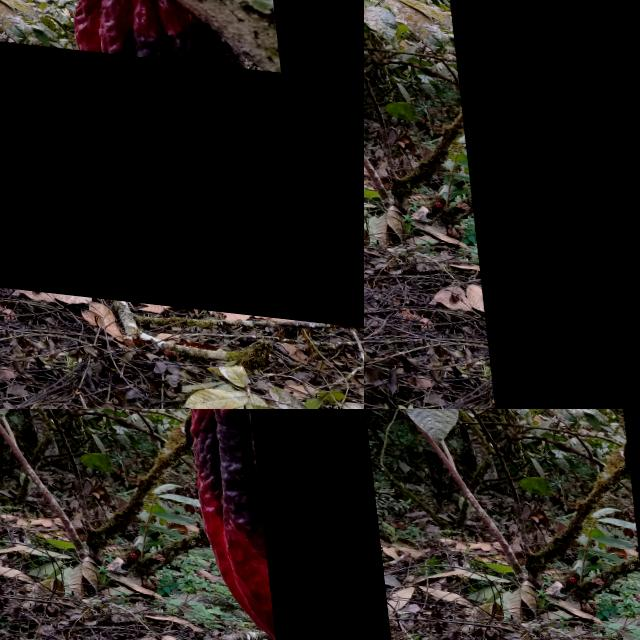Fitoftora: (0, 31, 364, 322), (440, 0, 640, 409)
Monilia: (238, 409, 364, 640), (264, 0, 364, 126)
